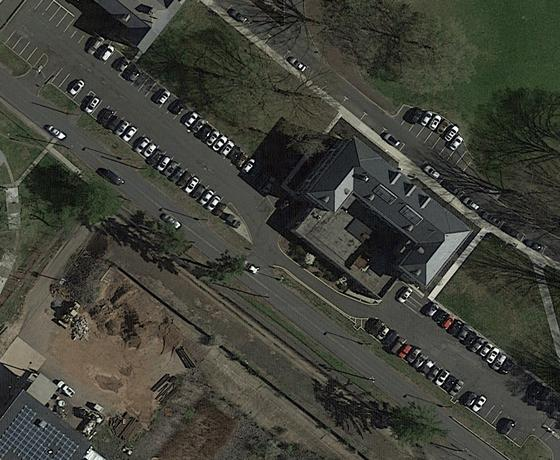parkingspot: (224, 4, 407, 152), (123, 65, 281, 197), (83, 92, 232, 219), (419, 160, 548, 256), (366, 316, 465, 398), (33, 0, 131, 77), (421, 302, 516, 376), (392, 104, 476, 173), (462, 390, 533, 448), (49, 67, 93, 107), (3, 30, 46, 68)
